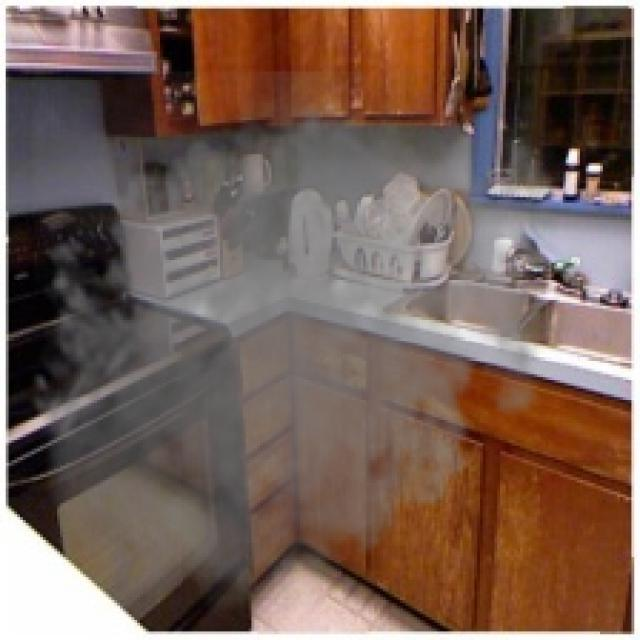Smoke: (19, 71, 574, 632)
